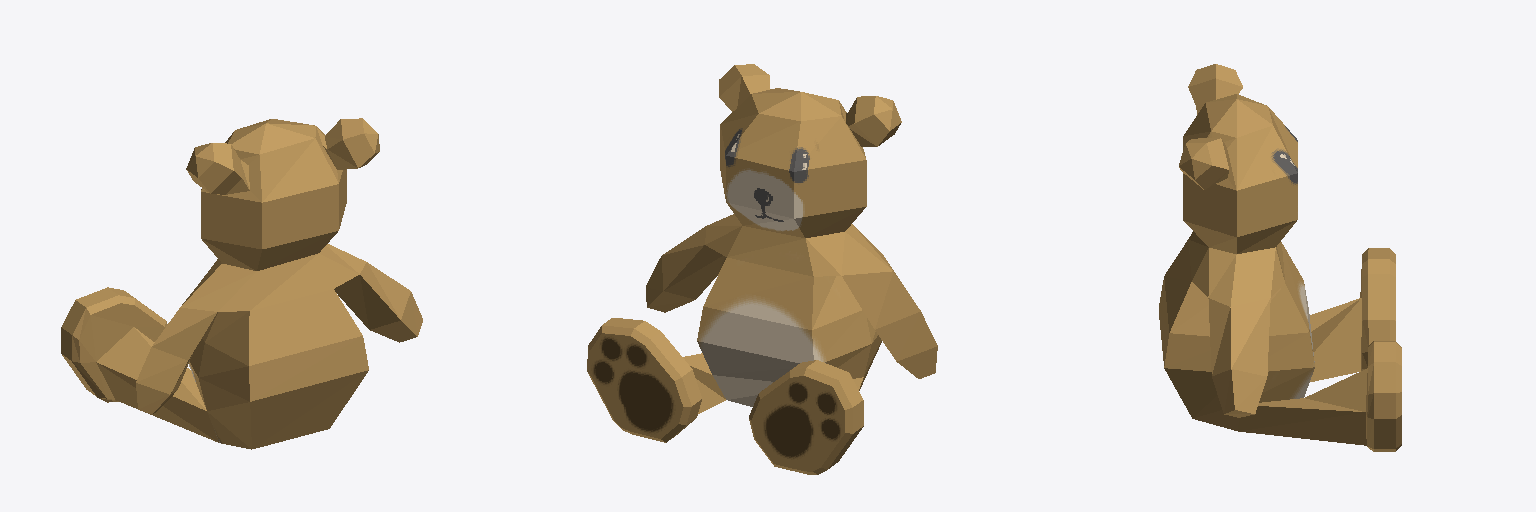
3 renders of one model, left to right at view 1: azimuth 30°, elevation 25°; view 2: azimuth 150°, elevation 25°; view 3: azimuth 270°, elevation 25°, orthographic.
Visible parts, largest first — view 1: bear_complete; view 2: bear_complete; view 3: bear_complete.
Boxes of the visible parts, box(x1,y1,x2,y2) form: bear_complete: box(61, 118, 422, 449); bear_complete: box(587, 64, 937, 474); bear_complete: box(1159, 64, 1401, 451).
Size of the model in its own units: 8.08 by 8.27 by 5.86.
1 materials, 1 textured.